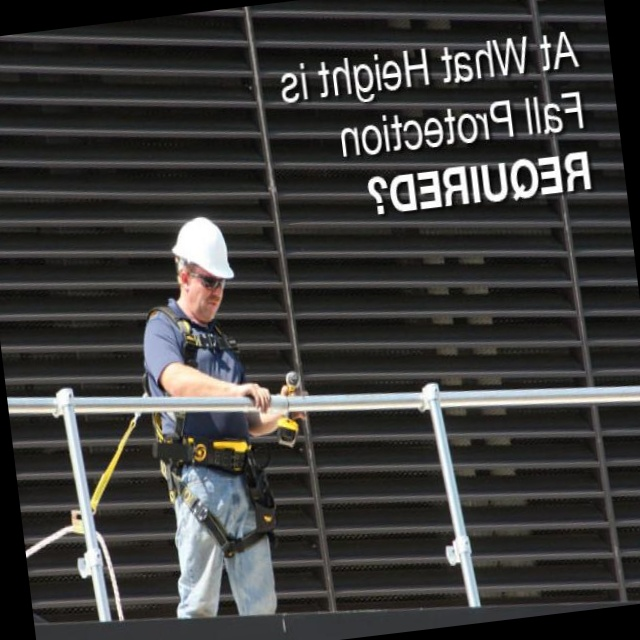goggles: (400, 257, 462, 284)
helmet: (396, 200, 466, 267)
